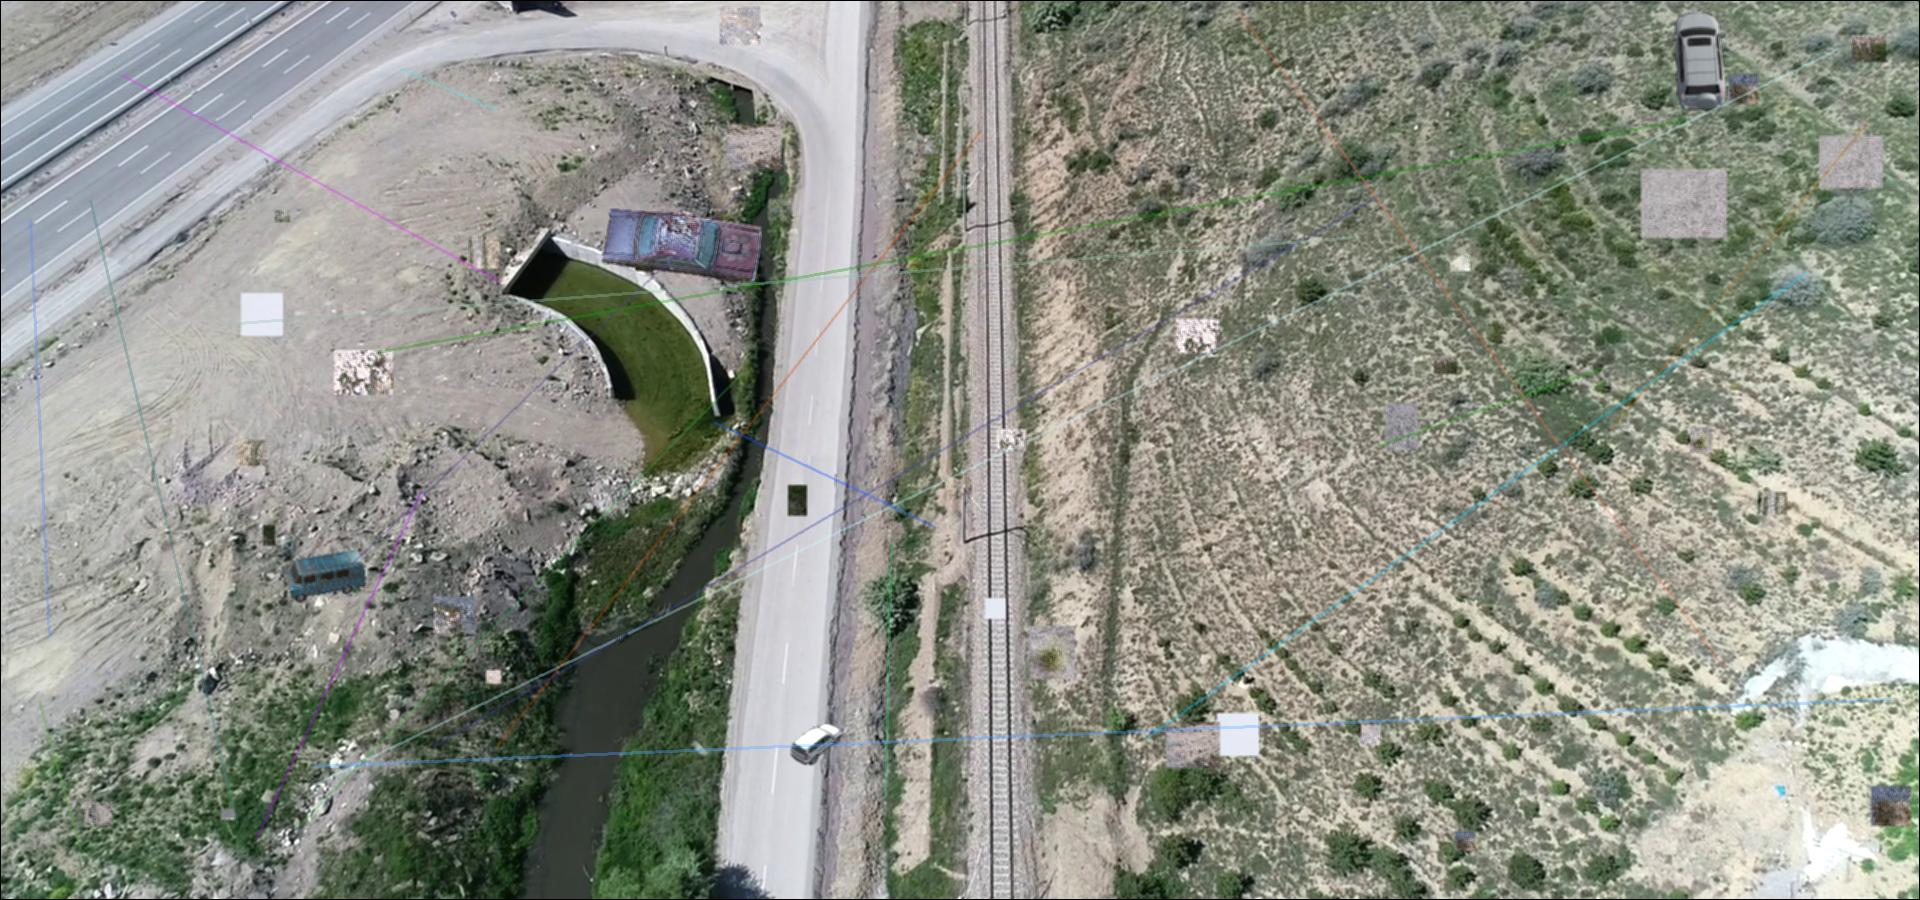arac: (599, 202, 763, 288), (1668, 11, 1731, 111), (282, 549, 373, 604), (789, 720, 842, 767)
